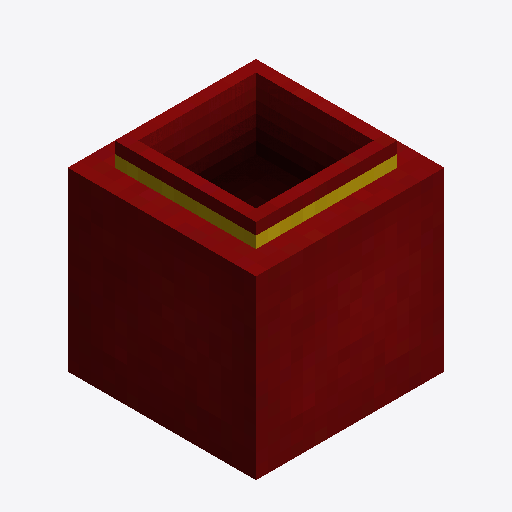
A Minecraft block model of 8 cuboids, rendered isometrically (azimuth 45°, elevation 35.3°) with the resource pack's own textures.
Parts seen in each view (by area): element 1, element 2, element 3, element 8, element 6, element 4.
Part boxes in pixels (bbox=[...]): element 1: bbox=[68, 141, 443, 479]; element 2: bbox=[115, 59, 396, 248]; element 3: bbox=[139, 73, 373, 193]; element 8: bbox=[138, 73, 255, 180]; element 6: bbox=[256, 73, 372, 178]; element 4: bbox=[210, 155, 301, 207].
Bounding box in the file's own units: 16 × 17 × 16.